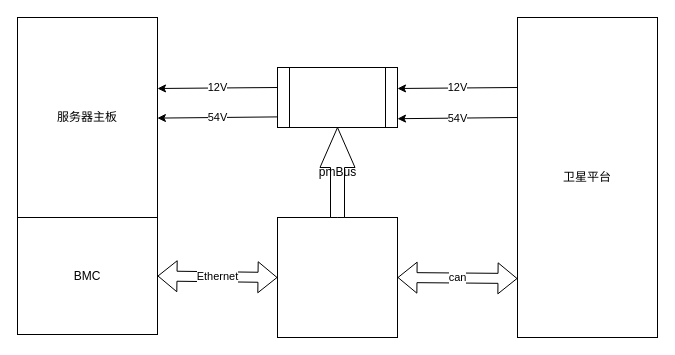
The diagram is 675 pixels wide and 355 high, and some of its shapes have lost their labels. Each missing label, with the box of its shape:
AM625: (276, 216, 398, 338)
电源滤波及开关: (276, 66, 398, 128)
